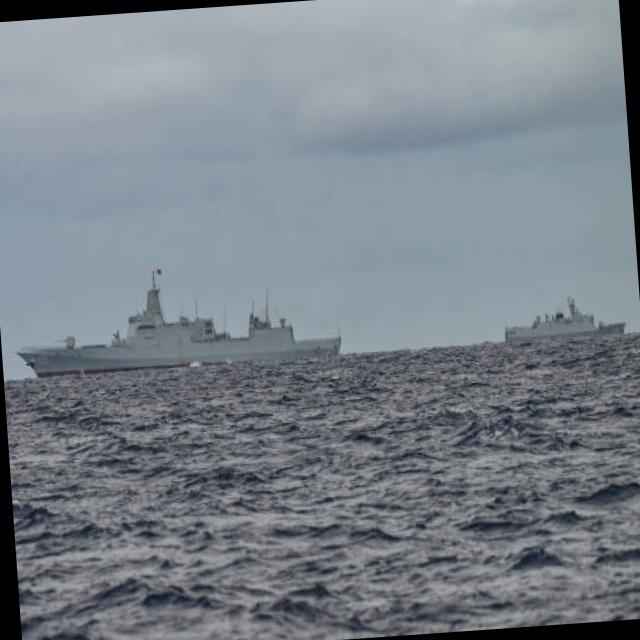Military: (18, 253, 343, 372), (505, 294, 625, 348)
